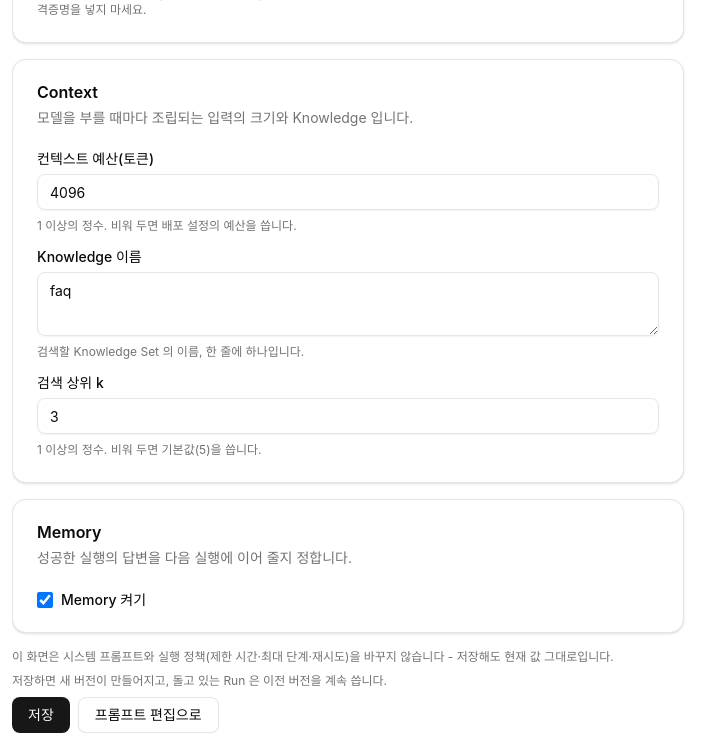
SettingsForm (spec 0007 D-5, R-1, R-12) › R-1: 성공하면 새 버전 번호를 말한다
(page scrolled)
Click the button "저장".
click(41, 715)  # box top-left (12, 697), bottom-right (70, 732)
(page scrolled)
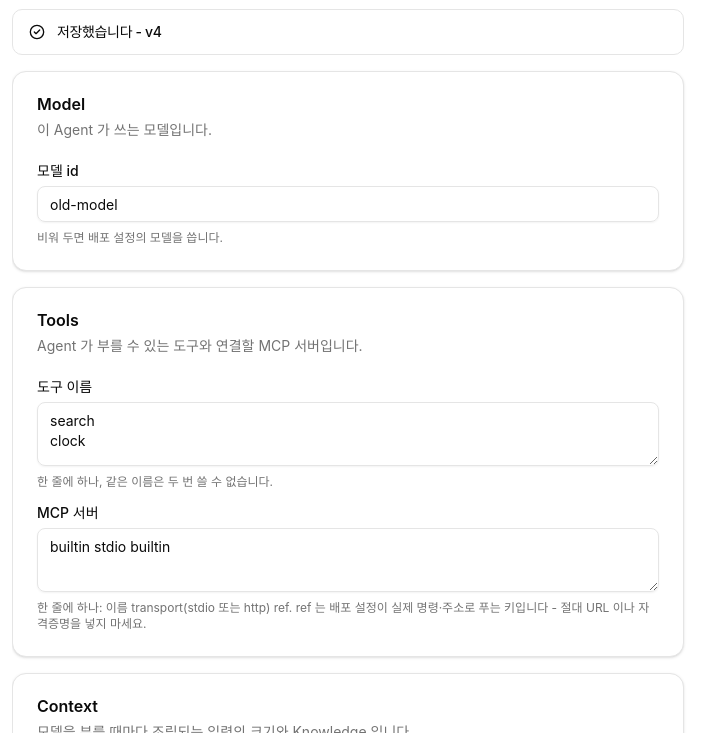
Expected: the message shows "v4", top-left (57, 23), bottom-right (162, 40)
